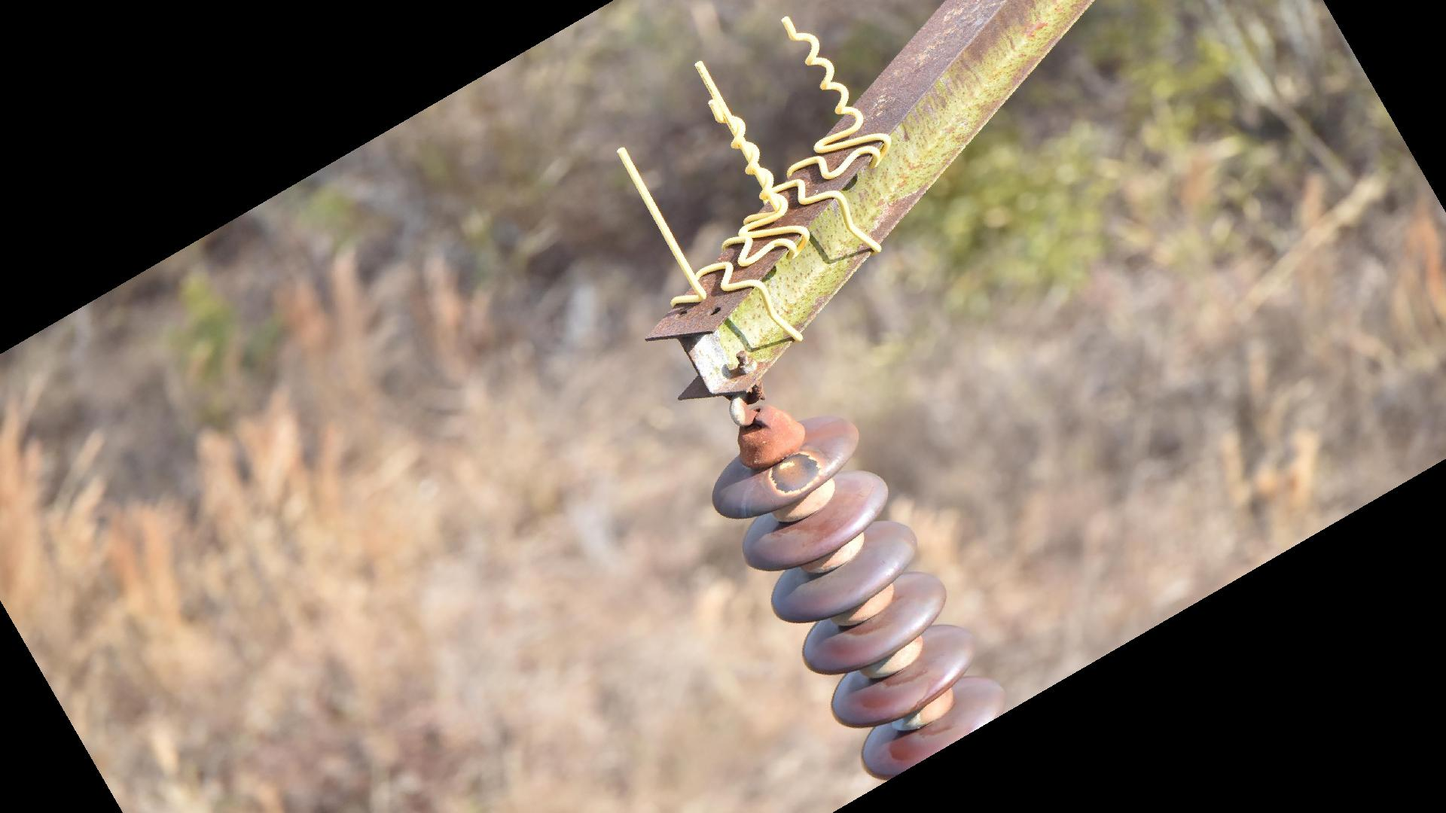insulator: (704, 410, 1009, 784)
insulator_flashover: (764, 449, 827, 499)
